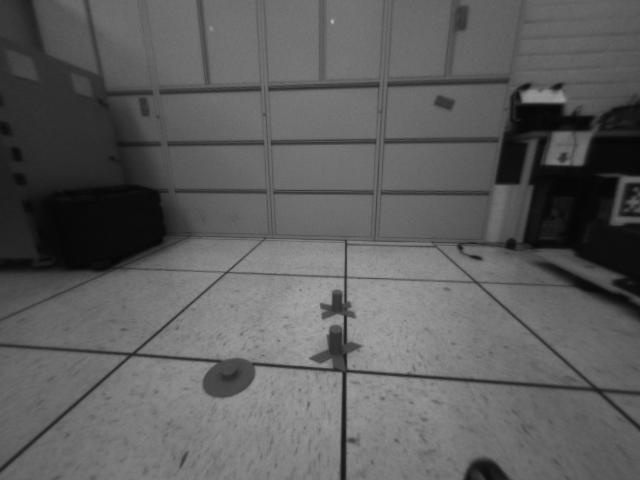X: (309, 326, 362, 371), (320, 288, 355, 319)
